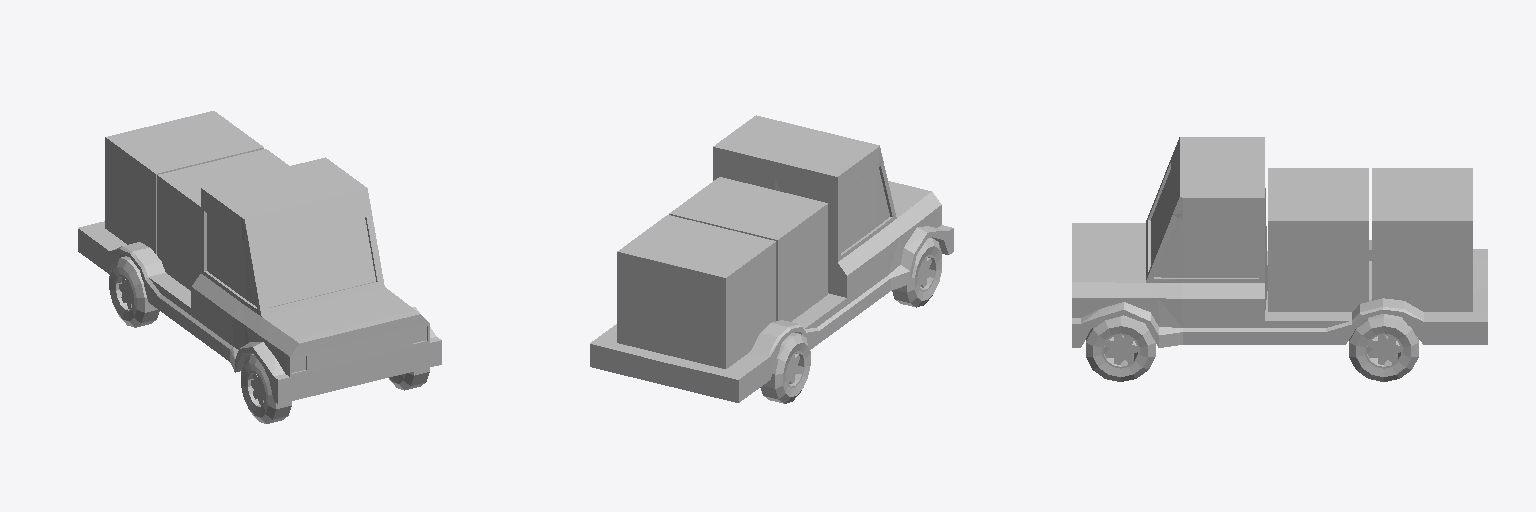
The model's file is truck_05.obj.
3 renders of one model, left to right at view 1: azimuth 30°, elevation 25°; view 2: azimuth 150°, elevation 25°; view 3: azimuth 270°, elevation 25°, orthographic.
Visible parts, largest first — view 1: truck_Cube.001; view 2: truck_Cube.001; view 3: truck_Cube.001.
Boxes of the visible parts, box(x1,y1,x2,y2) form: truck_Cube.001: box(78, 111, 441, 423); truck_Cube.001: box(590, 115, 953, 403); truck_Cube.001: box(1072, 137, 1487, 381).
Bounding box in the file's own units: 1.76 × 1.83 × 3.89.